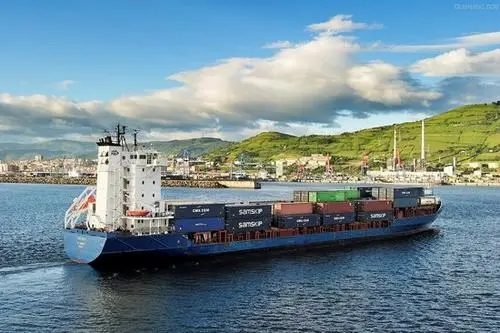Cargoship: (56, 118, 444, 264)
